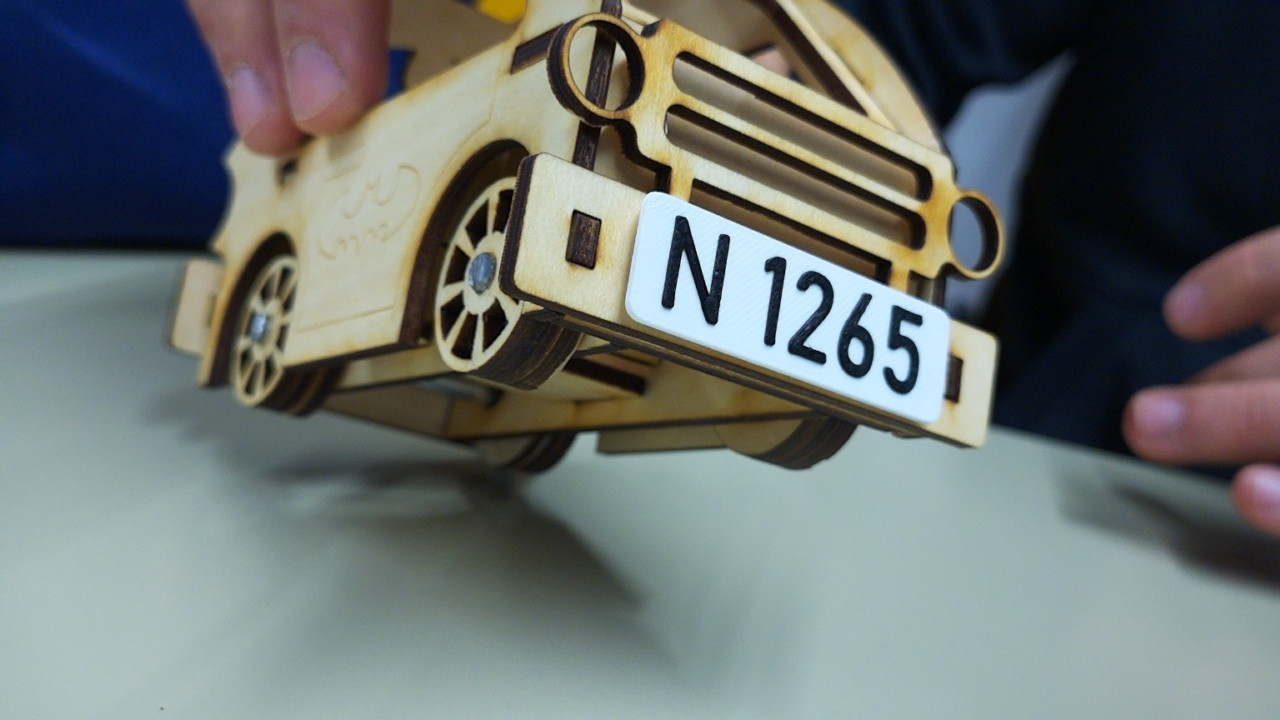license_plate: (622, 188, 952, 426)
